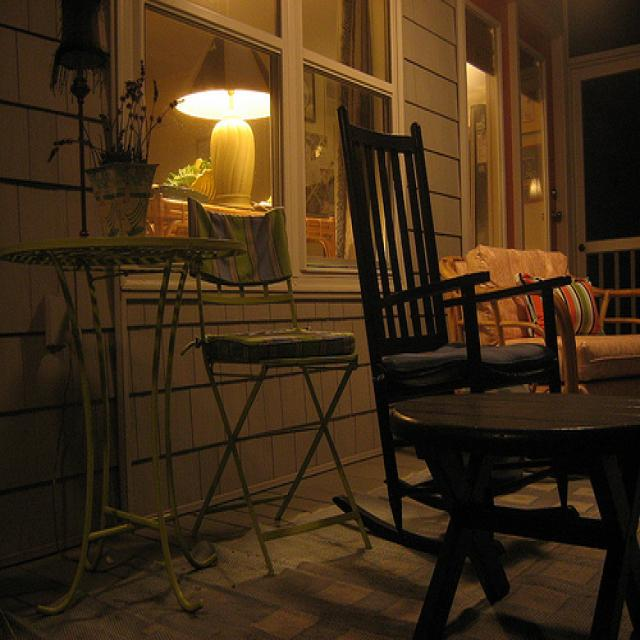Table: (0, 214, 232, 640), (398, 375, 640, 640)
chair: (184, 163, 364, 606), (343, 70, 510, 478), (471, 193, 640, 431)
